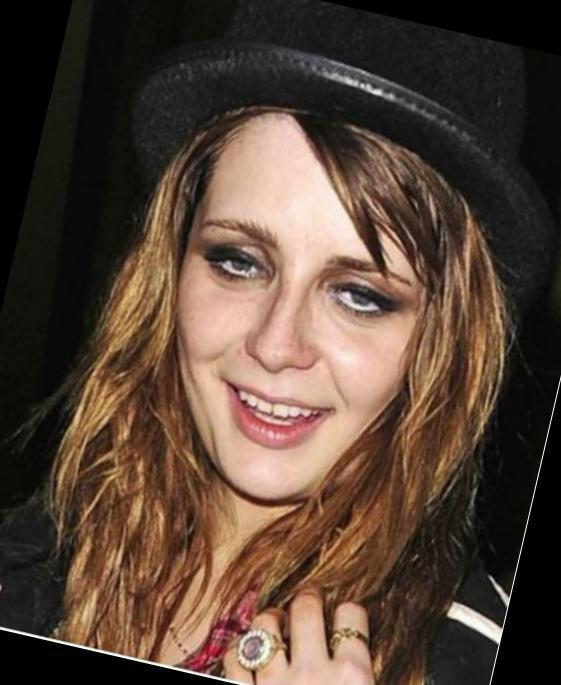Drunk: (188, 137, 419, 509)
